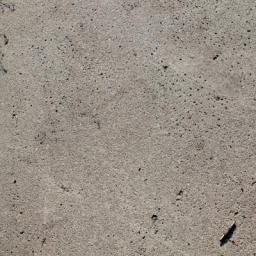FOD: (215, 219, 244, 249)
